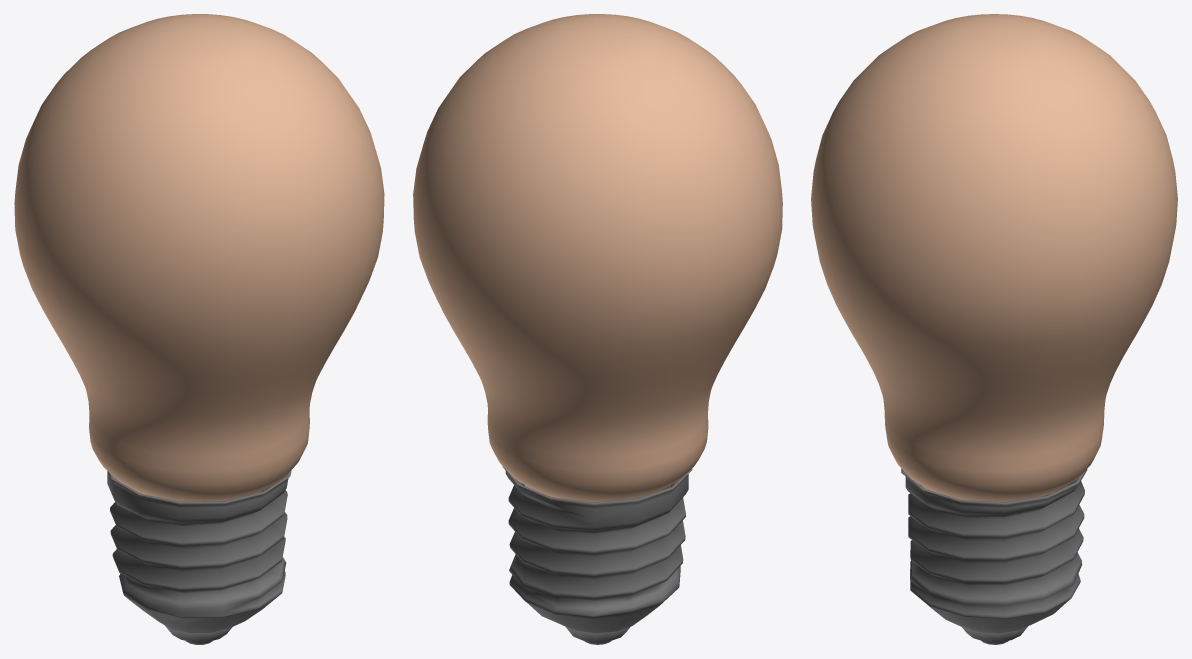
File: bulb.obj
3 views of the same model, side by side, from view 1: azimuth 30°, elevation 25°; view 2: azimuth 150°, elevation 25°; view 3: azimuth 270°, elevation 25° (orthographic).
Visible parts, largest first — view 1: Glass, Base_Light_bulb; view 2: Glass, Base_Light_bulb; view 3: Glass, Base_Light_bulb.
Part boxes in pixels (box(x1,y1,x2,y2)): Glass: box(14, 14, 384, 501); Base_Light_bulb: box(107, 470, 291, 644); Glass: box(413, 14, 782, 502); Base_Light_bulb: box(502, 466, 692, 644); Glass: box(811, 14, 1177, 515); Base_Light_bulb: box(901, 468, 1087, 644).
Size of the model in its own units: 114 by 207 by 113.
